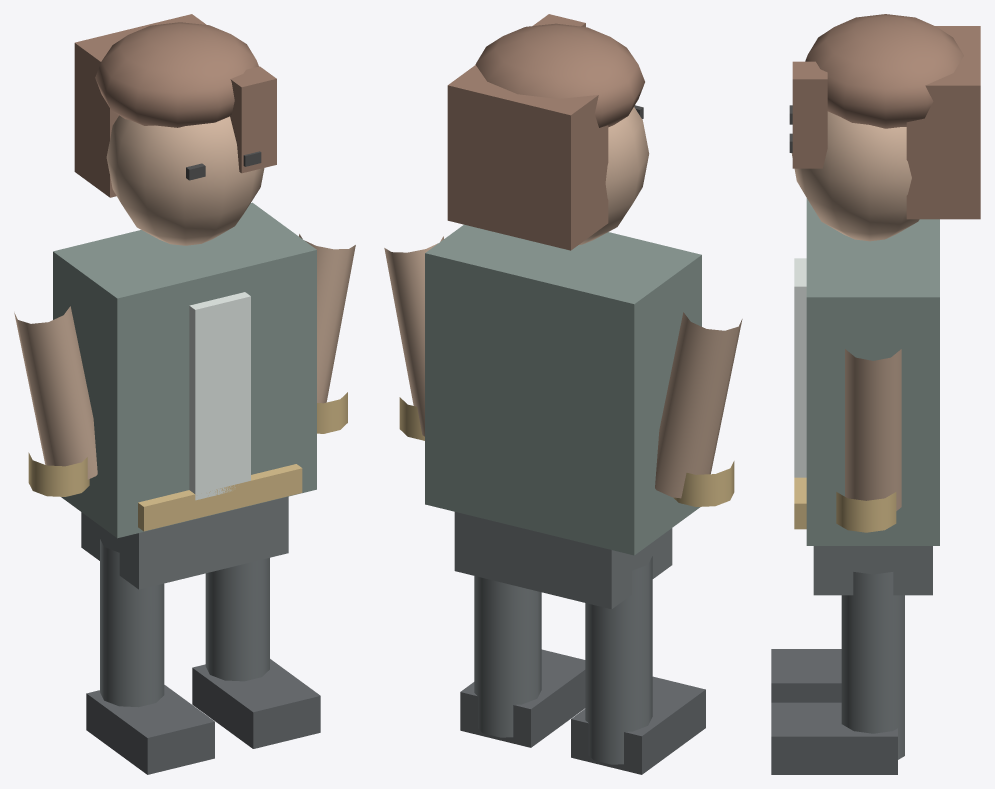
File: joren-ash.glb
3 views of the same model, side by side, from view 1: azimuth 30°, elevation 25°; view 2: azimuth 150°, elevation 25°; view 3: azimuth 270°, elevation 25° (orthographic). The views are drawn at different scales.
Visible parts, largest first — view 1: Torso, Head, HairCap, Vest, Pelvis, ArmL, LegL, FootL, FootR, LegR, HairBack, Belt (+4 smaller); view 2: Torso, HairBack, Pelvis, HairCap, LegL, ArmL, LegR, FootL, FootR, ArmR, Head, CuffL (+1 smaller); view 3: Torso, HairCap, HairBack, Head, LegR, ArmR, FootR, Pelvis, FootL, HairLock, Vest, CuffR (+1 smaller).
Part boxes in pixels (x1,y1,x2,y2): Torso: (53, 202, 316, 538); Head: (106, 115, 264, 245); HairCap: (95, 22, 258, 127); Vest: (189, 292, 250, 500); Pelvis: (81, 496, 288, 589); ArmL: (14, 306, 97, 479); LegL: (100, 539, 164, 707); FootL: (86, 685, 214, 774); FootR: (192, 659, 320, 748); LegR: (205, 558, 269, 681); HairBack: (74, 14, 206, 197); Belt: (138, 464, 302, 531); Torso: (425, 224, 701, 555); HairBack: (447, 65, 608, 250); Pelvis: (454, 512, 672, 609); HairCap: (475, 23, 644, 127); LegL: (585, 556, 652, 764); ArmL: (655, 312, 742, 498); LegR: (474, 576, 541, 737); FootL: (571, 676, 705, 774); FootR: (460, 649, 585, 747); ArmR: (384, 236, 443, 436); Head: (579, 107, 649, 244); CuffL: (673, 461, 734, 506); Torso: (806, 198, 939, 545); HairCap: (805, 14, 963, 128); HairBack: (906, 26, 980, 219); Head: (791, 111, 919, 241); LegR: (841, 572, 904, 759); ArmR: (845, 349, 901, 510); FootR: (771, 702, 897, 774); Pelvis: (813, 546, 932, 595); FootL: (771, 649, 841, 702); HairLock: (792, 61, 827, 168); Vest: (794, 258, 806, 477); CuffR: (836, 492, 896, 532).
Bounding box in the file's own units: 1.14 × 2.21 × 0.595.
